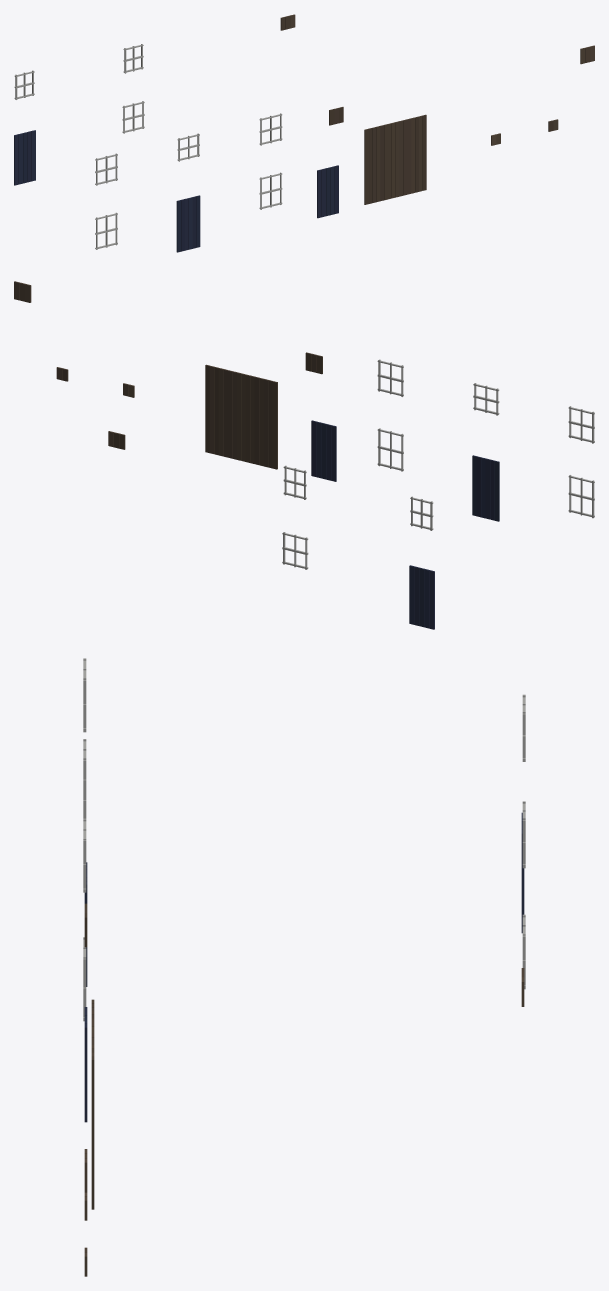
File: SM_Bld_060_Wood.glb
The picture shows the model from 3 angles, top to bottom: view 1: azimuth 30°, elevation 25°; view 2: azimuth 150°, elevation 25°; view 3: azimuth 270°, elevation 25°; orthographic projection. The views are drawn at different scales.
Parts seen in each view (by area): view 1: SM_Bld_060_Wood; view 2: SM_Bld_060_Wood; view 3: SM_Bld_060_Wood.
Boxes of the visible parts, bbox=[...] form: SM_Bld_060_Wood: bbox=[14, 14, 594, 252]; SM_Bld_060_Wood: bbox=[14, 281, 594, 629]; SM_Bld_060_Wood: bbox=[83, 658, 525, 1276].
Bounding box in the file's own units: 20.94 × 4.56 × 8.04.
